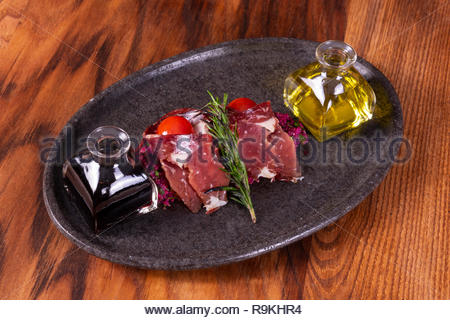bacon: (234, 101, 299, 186), (156, 129, 211, 208)
